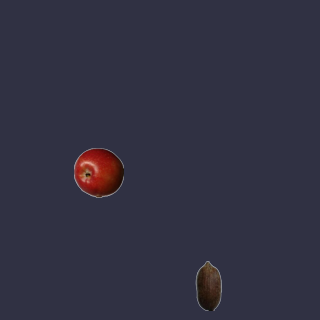Apple Braeburn: (73, 147, 123, 197)
Nut Pecan: (183, 260, 233, 310)
